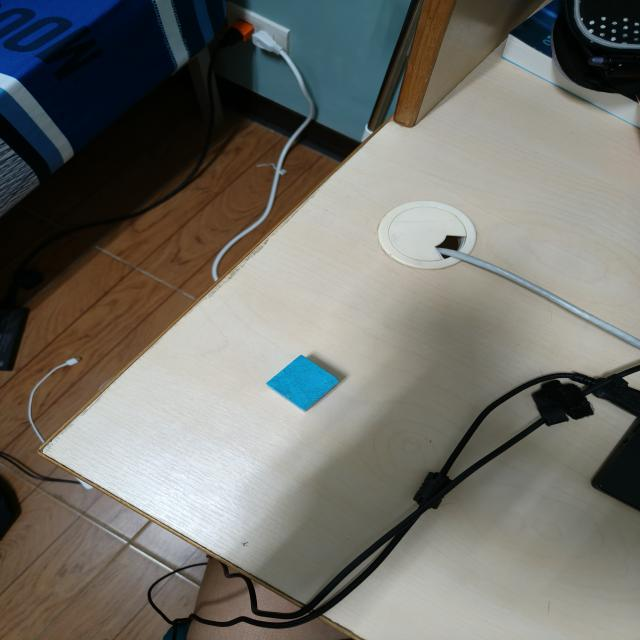blue_block: (264, 354, 343, 412)
